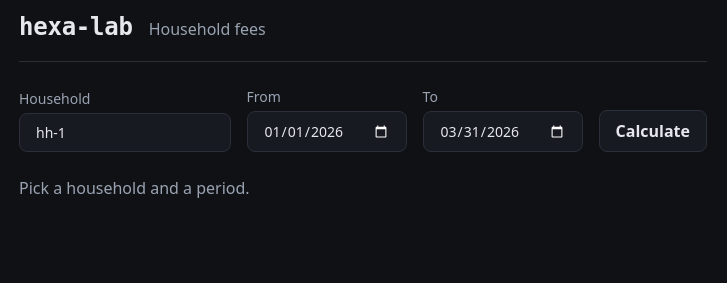
Test: error: hh-404 shows an alert with the code and the message, no table
The image size is (727, 283).
Replace the text in the field labelled "Household" with "hh-404" at (125, 132), box [19,113,231,152]
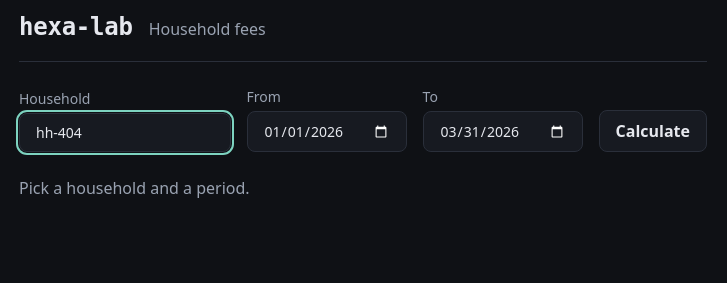
Click the button "Calculate" at (653, 131), box [599,110,707,152]
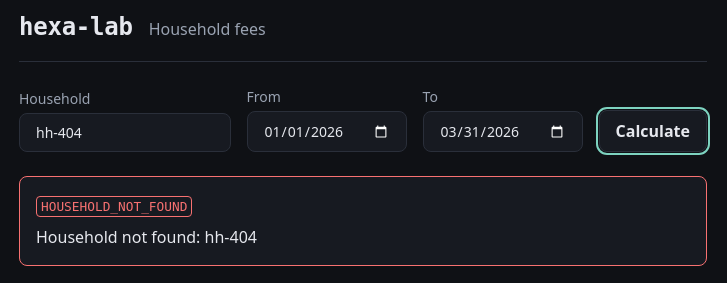
Expected: the text "HOUSEHOLD_NOT_FOUND" is shown, [36,196,192,217]
Expected: the text "Household not found: hh-404" is shown, [36,226,257,248]
